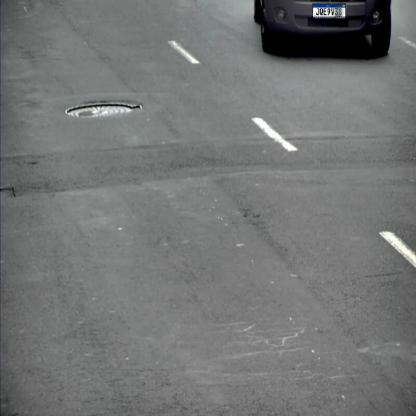PlacaM: (312, 4, 346, 18)
